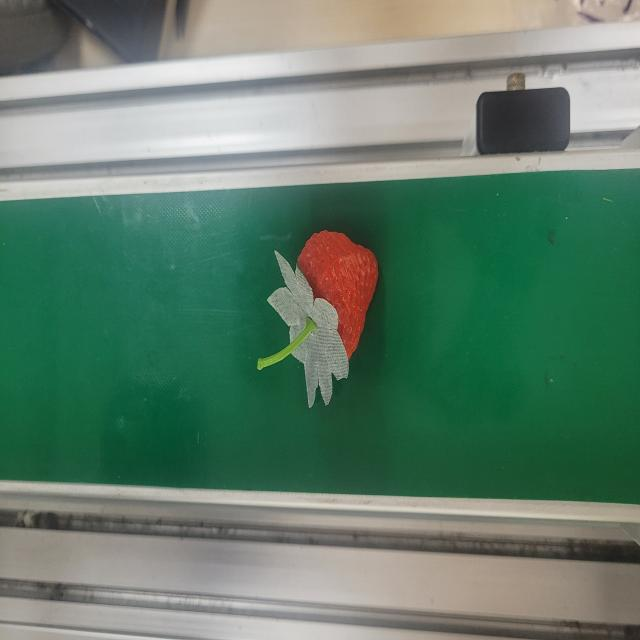Small Ripe Strawberry: (275, 226, 380, 387)
